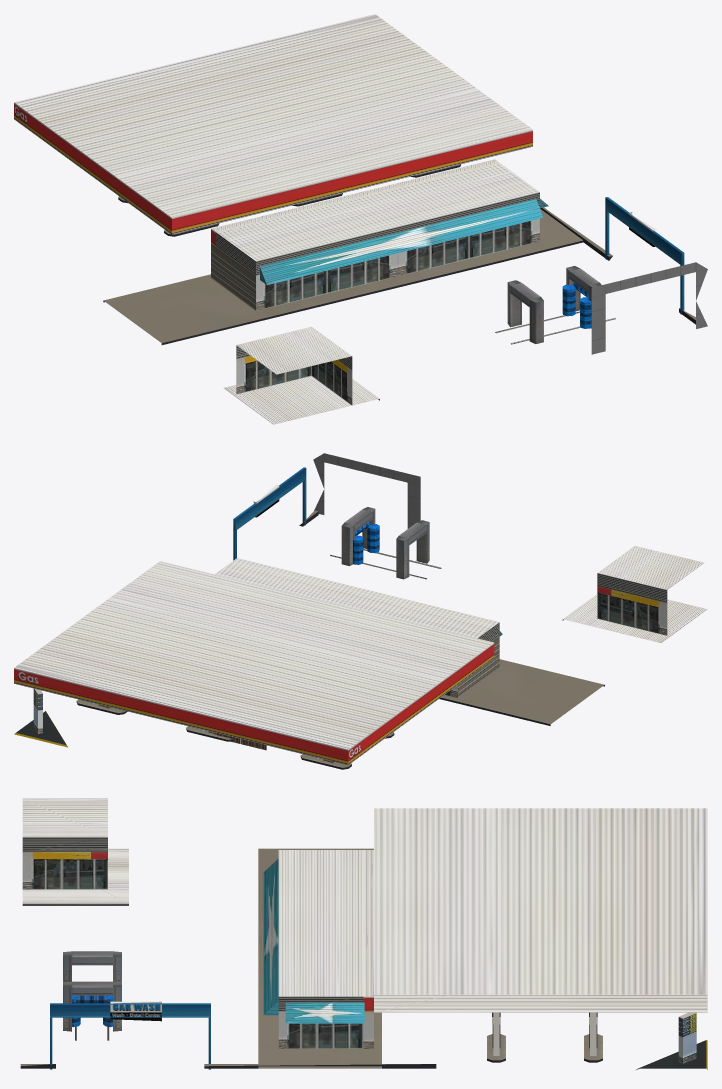
The model's file is petrol.glb.
The picture shows the model from 3 angles, top to bottom: view 1: azimuth 30°, elevation 25°; view 2: azimuth 150°, elevation 25°; view 3: azimuth 270°, elevation 25°; orthographic projection. The views are drawn at different scales.
Parts seen in each view (by area): view 1: petrol; view 2: petrol; view 3: petrol.
Boxes of the visible parts, x1,y1,x2,y2 form: petrol: [14, 14, 707, 424]; petrol: [14, 453, 707, 769]; petrol: [20, 798, 707, 1070].
Bounding box in the file's own units: 47.52 × 7.73 × 62.7.
Materials: 2 (2 with a texture image).
